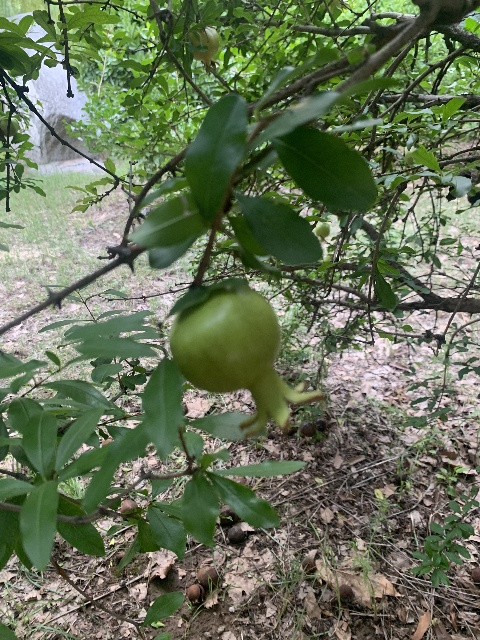mid-growth: (169, 285, 326, 440), (187, 26, 223, 70), (313, 223, 330, 244)
